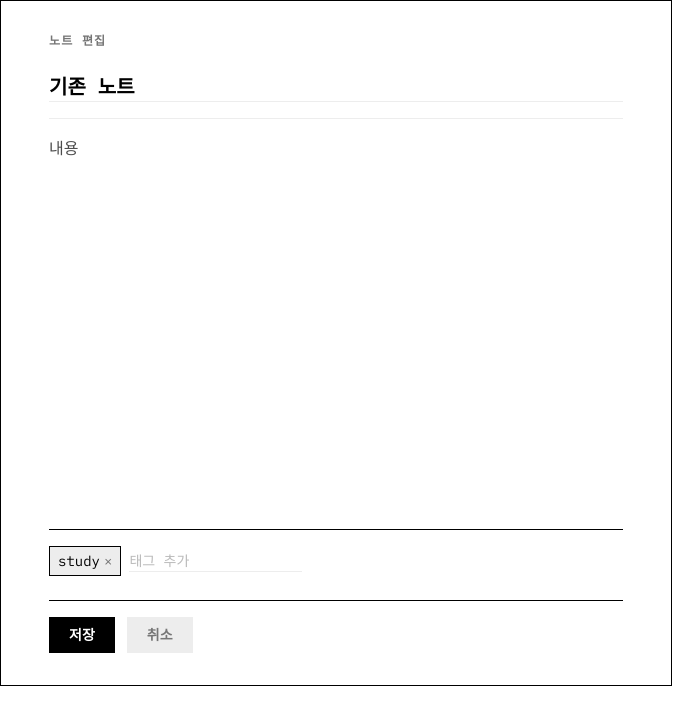
it: NoteEditor › should remove the tag chip from the screen immediately when its delete button is clicked, before Save is clicked
Expected: the field showing "기존 노트" is shown, [49, 73, 623, 102]
Expected: the text "study" is shown, [58, 552, 100, 570]
Step 1. Click the button "×" → (108, 561), box [104, 551, 112, 571]
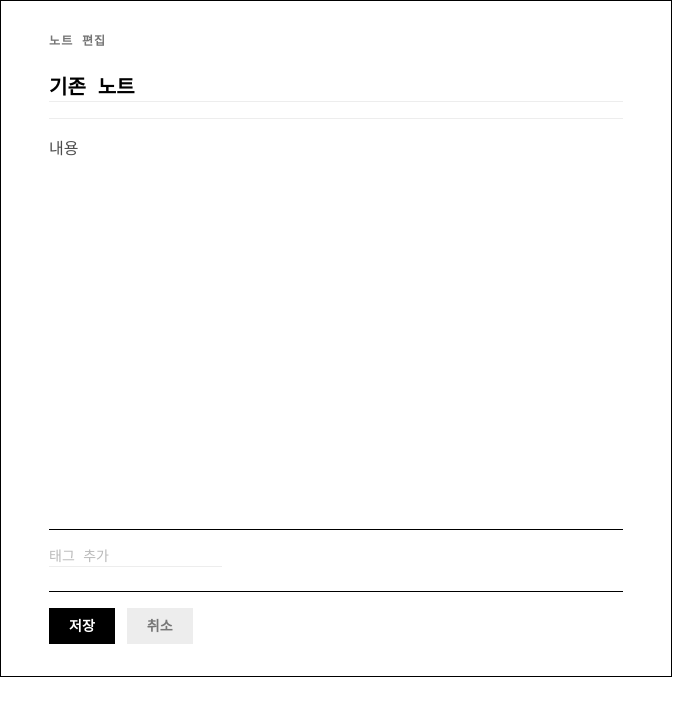
Now the text "study" is gone
